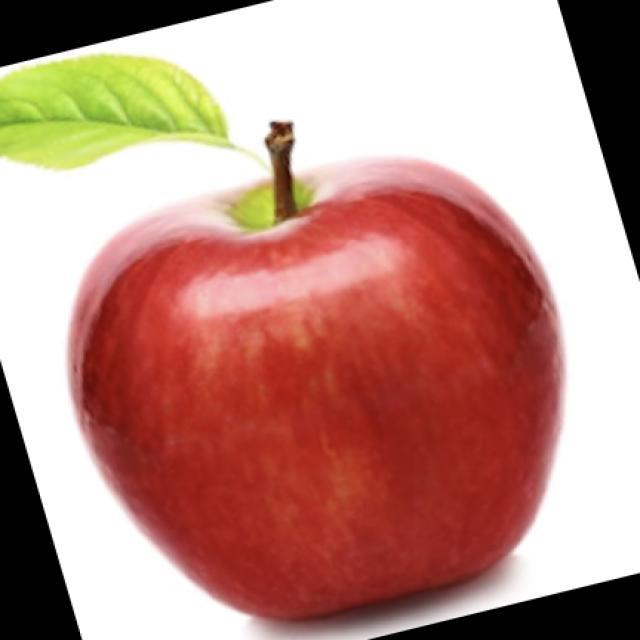Fresh Apple: (57, 162, 570, 610)
